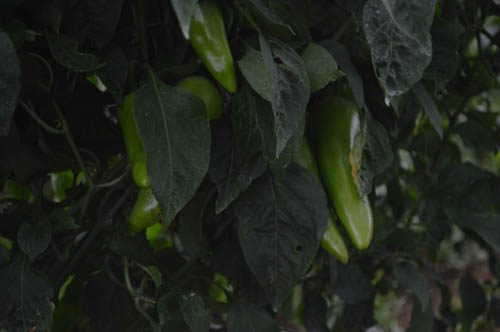ChiliPepper: (313, 95, 382, 253), (286, 133, 348, 264), (171, 1, 246, 94), (117, 87, 176, 186), (125, 184, 168, 233)
